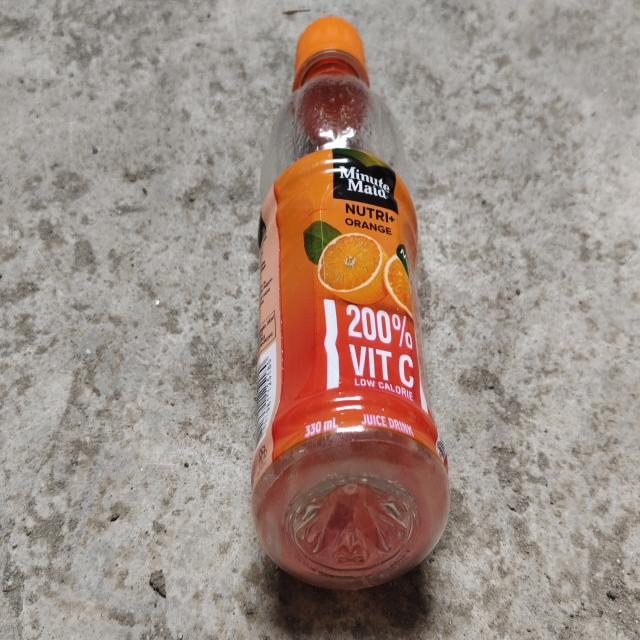Bottle: (251, 16, 450, 589)
